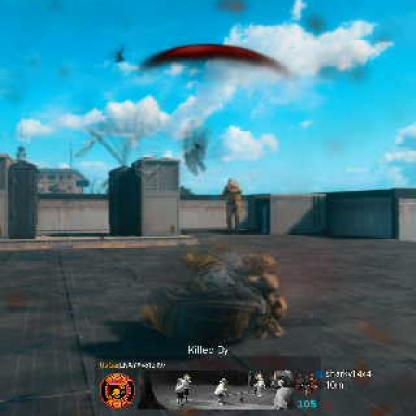enemy: (219, 177, 245, 230)
